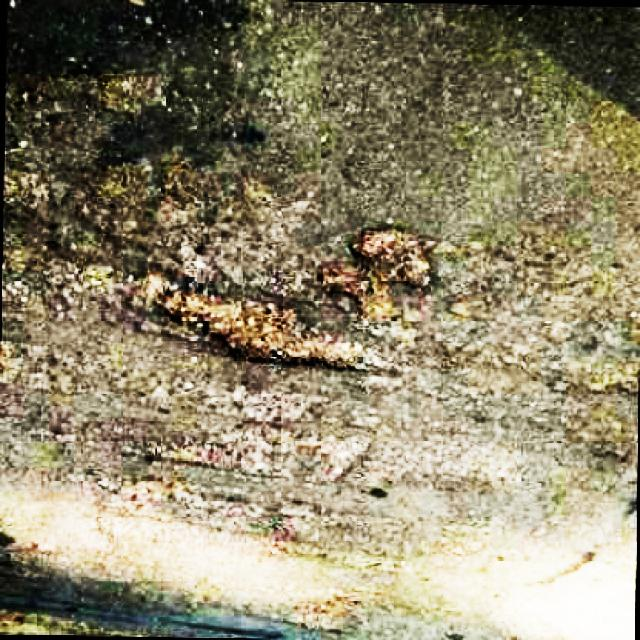pothole: (152, 280, 372, 372), (149, 417, 374, 486), (0, 250, 165, 316), (348, 223, 434, 291), (317, 263, 397, 322)
